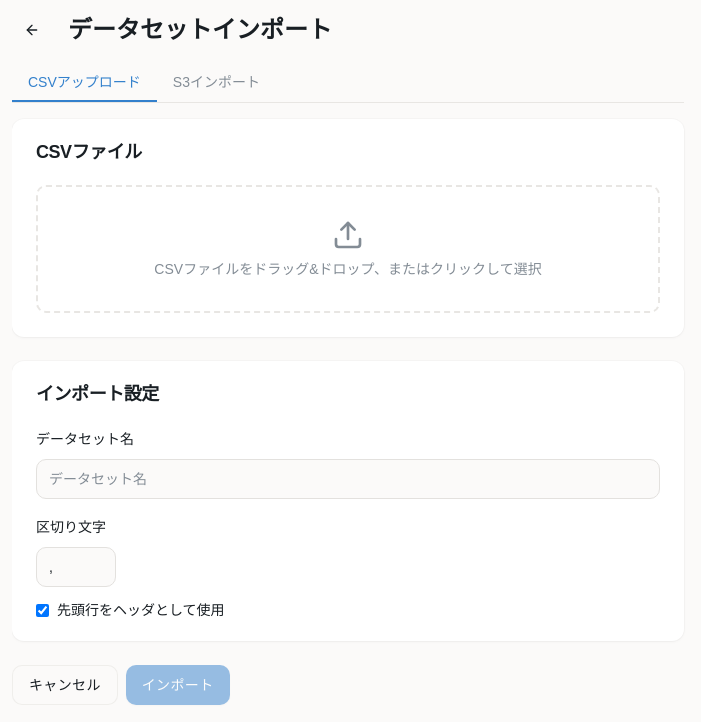
Test: DatasetImportPage › switches to S3 import tab when clicked
Click the button "S3インポート": coordinates (216, 83) [157, 64, 276, 102]
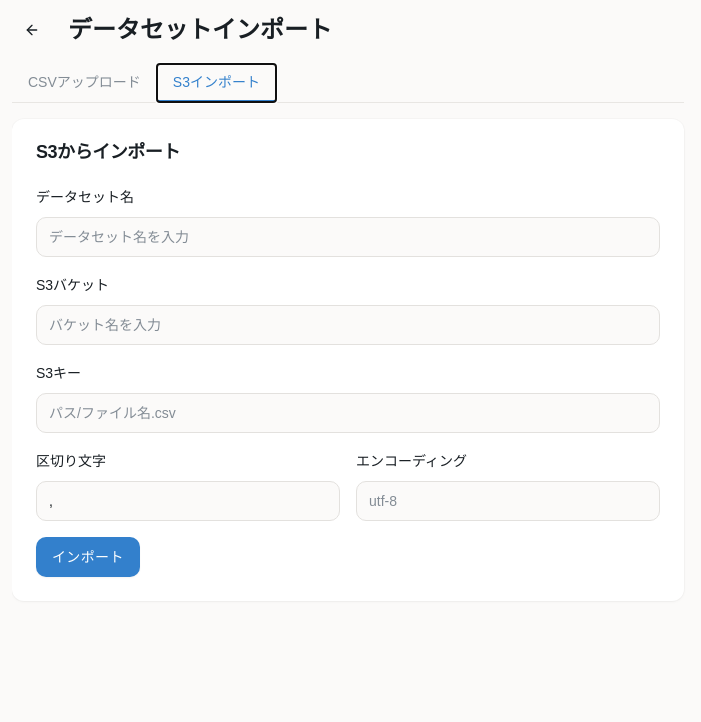
Expected: the field labelled "S3バケット" is shown, [36, 305, 660, 345]
Expected: the field labelled "S3キー" is shown, [36, 393, 660, 433]
